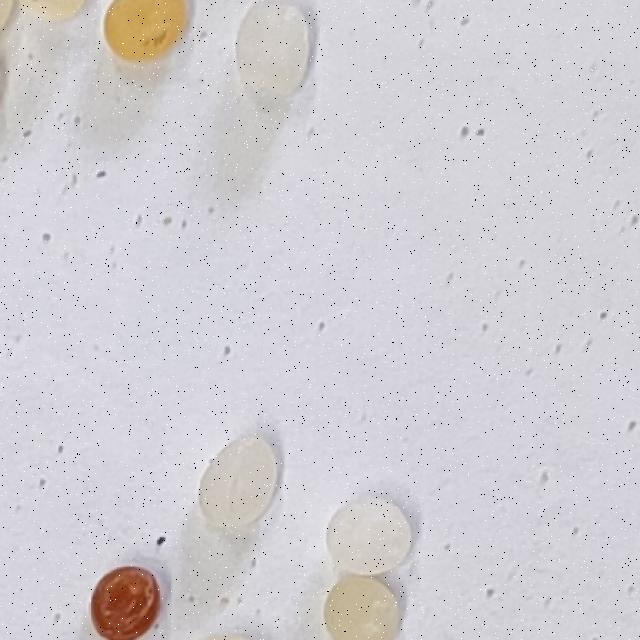beads: (326, 499, 413, 640), (197, 437, 278, 528), (237, 2, 309, 96), (0, 1, 0, 1)
